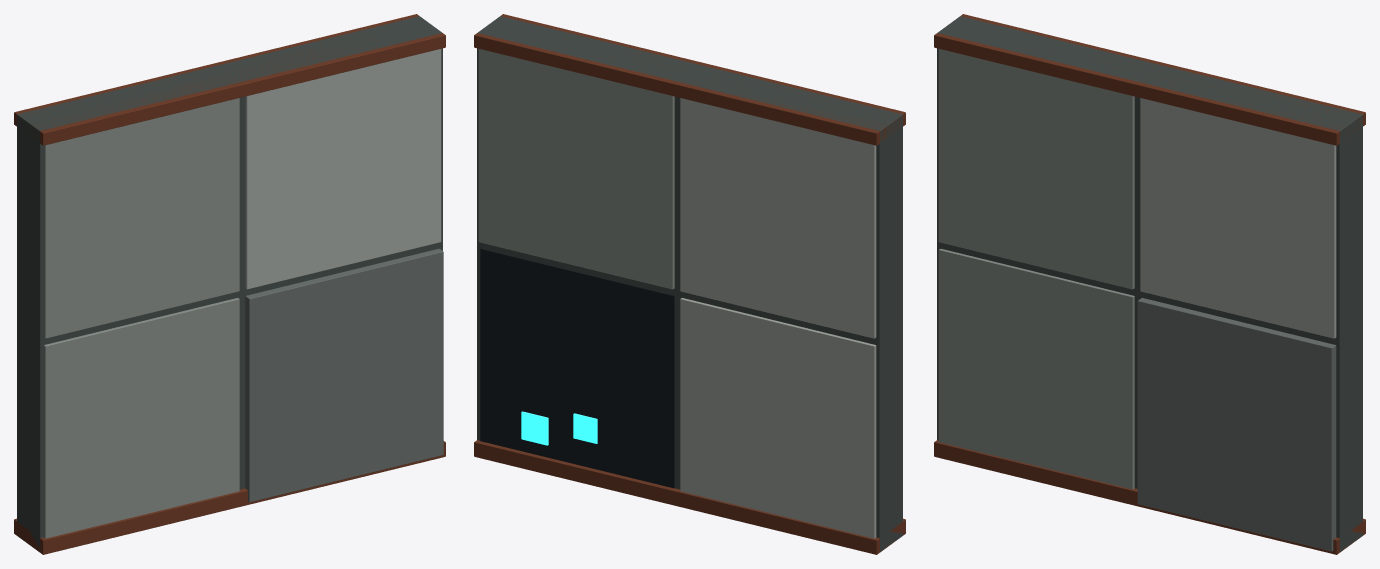
File: RUIN_WALL_PanelLit_4x4.glb
3 views of the same model, side by side, from view 1: azimuth 30°, elevation 25°; view 2: azimuth 150°, elevation 25°; view 3: azimuth 330°, elevation 25° (orthographic).
Parts seen in each view (by area): view 1: RUIN_WALL_PanelLit_4x4; view 2: RUIN_WALL_PanelLit_4x4; view 3: RUIN_WALL_PanelLit_4x4.
Boxes of the visible parts, <box> form: RUIN_WALL_PanelLit_4x4: <box>14,14,445,554</box>; RUIN_WALL_PanelLit_4x4: <box>474,14,905,554</box>; RUIN_WALL_PanelLit_4x4: <box>934,14,1365,554</box>.
Bounding box in the file's own units: 4 × 4 × 0.525.
